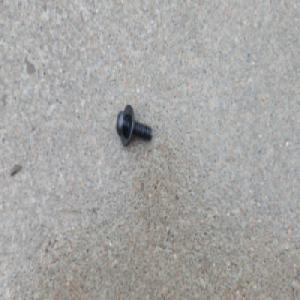BoltWasher: (116, 103, 153, 147)
